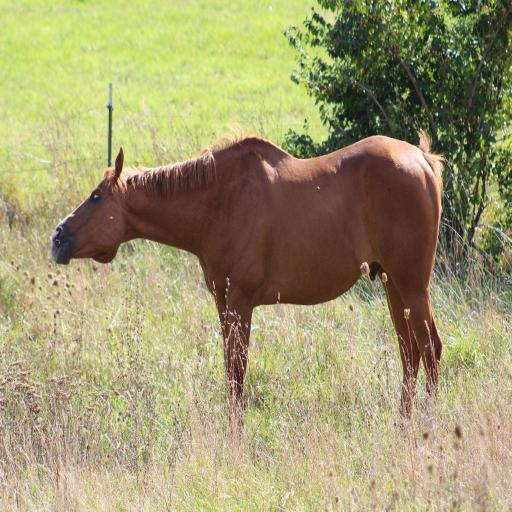horse: (51, 123, 447, 442)
